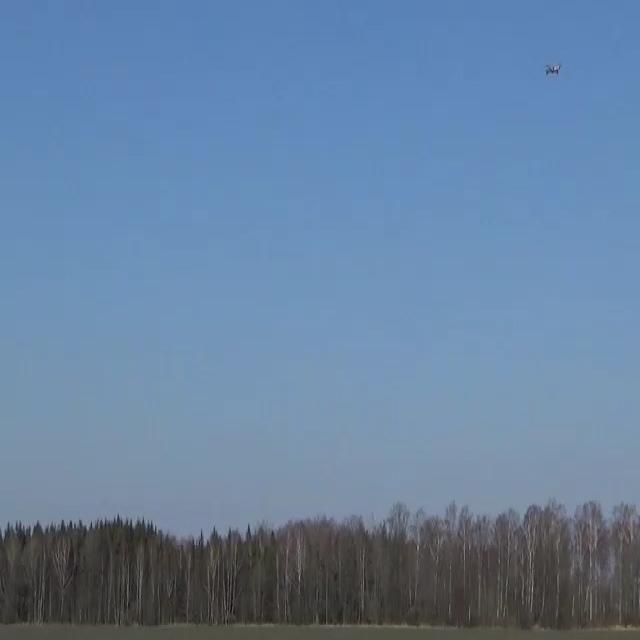drone: (544, 61, 561, 75)
